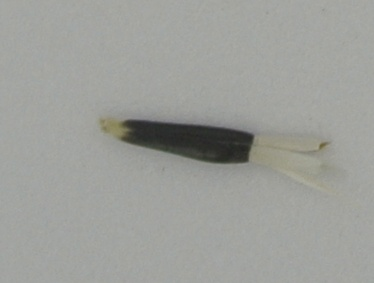เมล็ดดีติดกัน: (99, 116, 340, 200)
